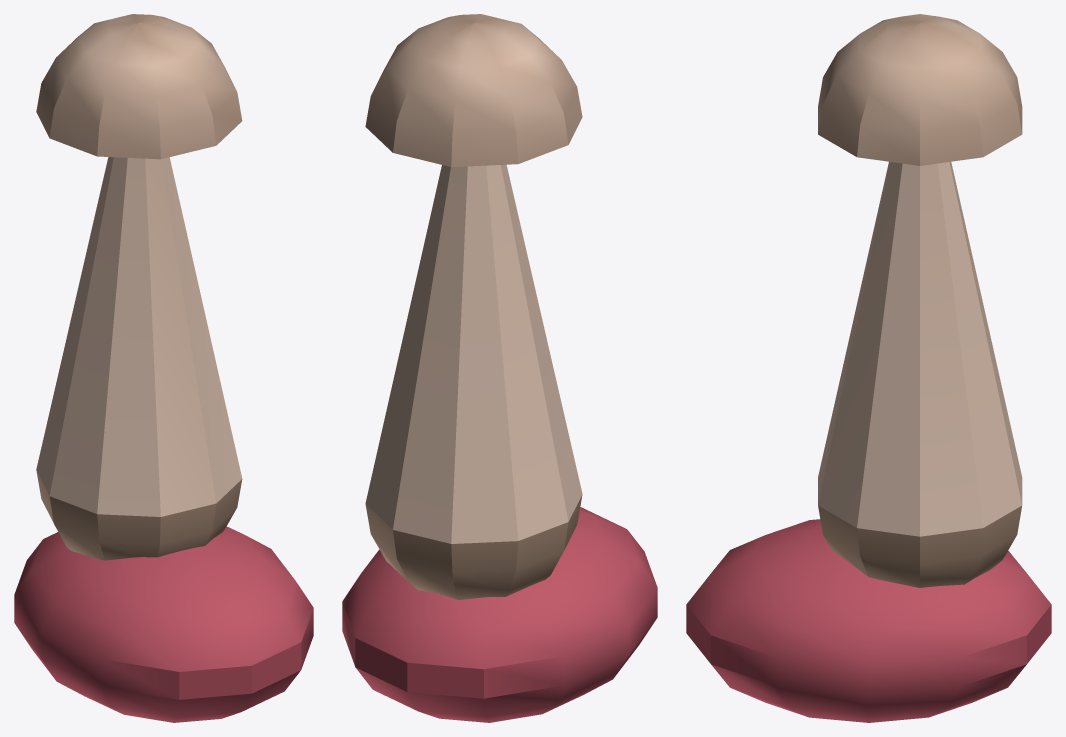
The model's file is girl-wizard-legR.glb.
3 views of the same model, side by side, from view 1: azimuth 30°, elevation 25°; view 2: azimuth 150°, elevation 25°; view 3: azimuth 270°, elevation 25° (orthographic). The views are drawn at different scales.
Parts seen in each view (by area): view 1: player_girl-wizard:legR; view 2: player_girl-wizard:legR; view 3: player_girl-wizard:legR.
Part boxes in pixels (x1,y1,x2,y2): player_girl-wizard:legR: (14, 14, 313, 722); player_girl-wizard:legR: (342, 14, 657, 722); player_girl-wizard:legR: (686, 14, 1051, 722).
Bounding box in the file's own units: 0.1142 × 0.293 × 0.1428.
